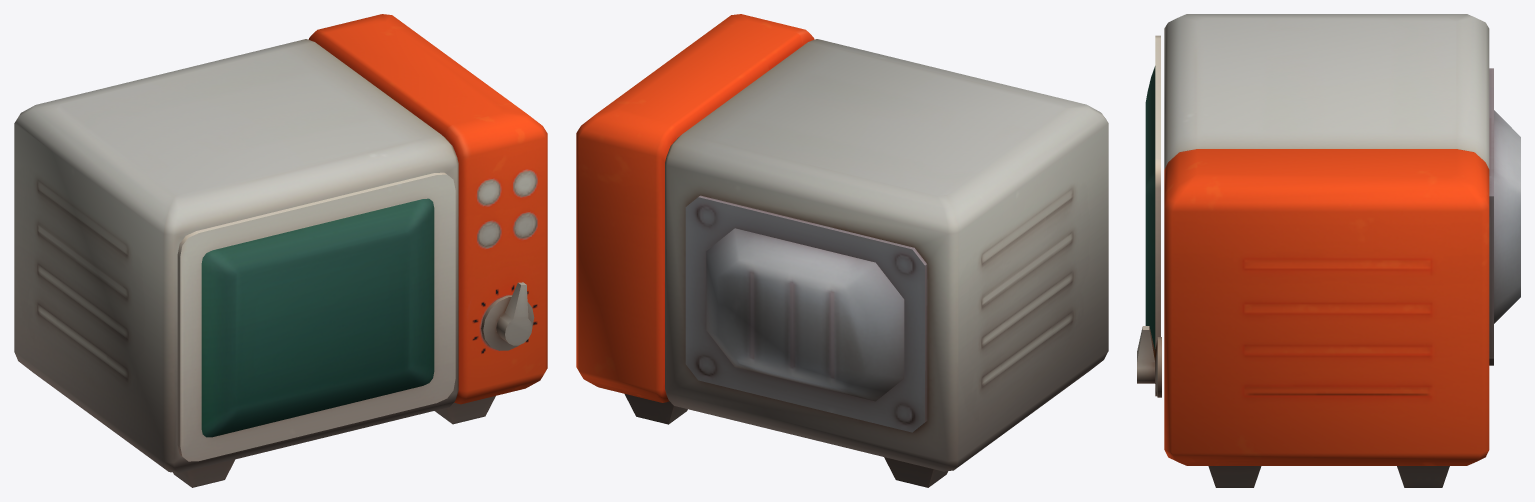
Rendered from CafeMicrowave01.FBX.
The picture shows the model from 3 angles, left to right: view 1: azimuth 30°, elevation 25°; view 2: azimuth 150°, elevation 25°; view 3: azimuth 270°, elevation 25°; orthographic projection. The views are drawn at different scales.
Parts seen in each view (by area): view 1: CafeMicrowave01; view 2: CafeMicrowave01; view 3: CafeMicrowave01.
Boxes of the visible parts, bbox=[...] form: CafeMicrowave01: bbox=[14, 14, 547, 487]; CafeMicrowave01: bbox=[576, 14, 1108, 487]; CafeMicrowave01: bbox=[1137, 14, 1520, 487].
Size of what is drawn, in the model's own units: 0.5086 by 0.39 by 0.4271.
